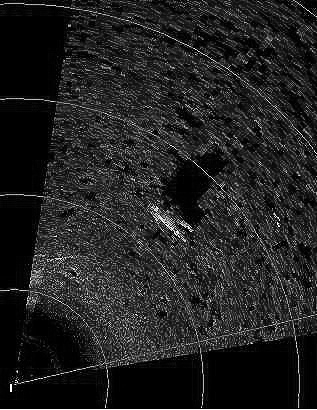man: (145, 197, 195, 245)
